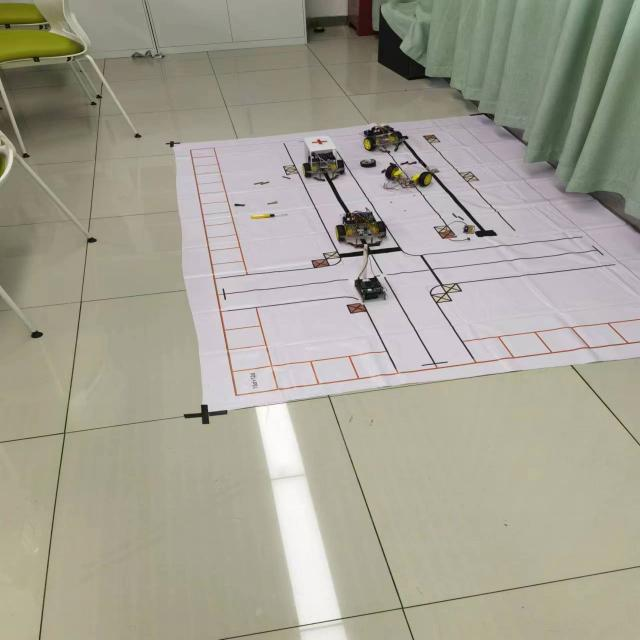RedCross: (310, 138, 329, 146)
